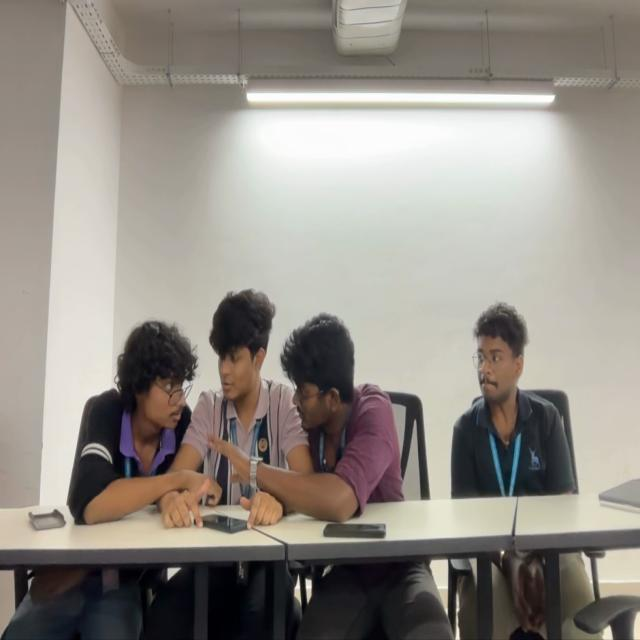Isolated: (444, 300, 577, 497)
socializing: (68, 286, 405, 522)
